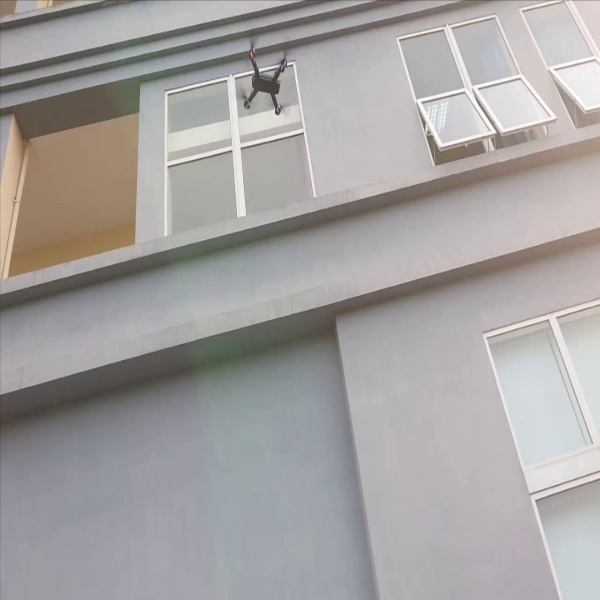drone: (228, 30, 301, 121)
